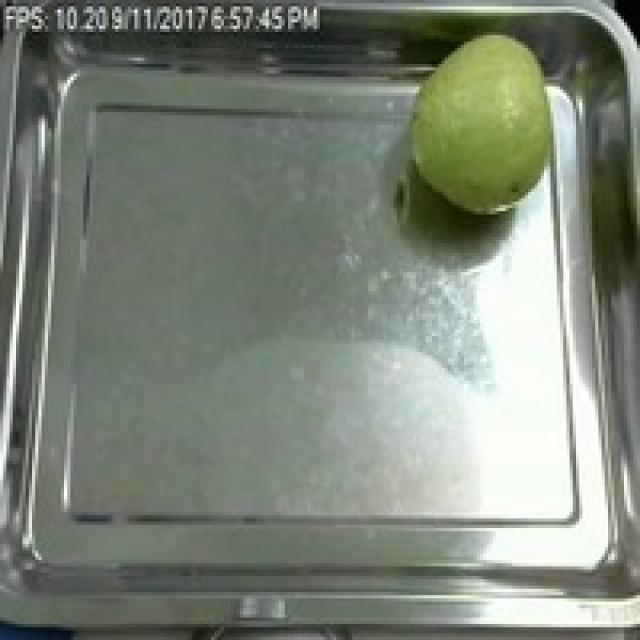Fruit: (397, 19, 579, 227)
